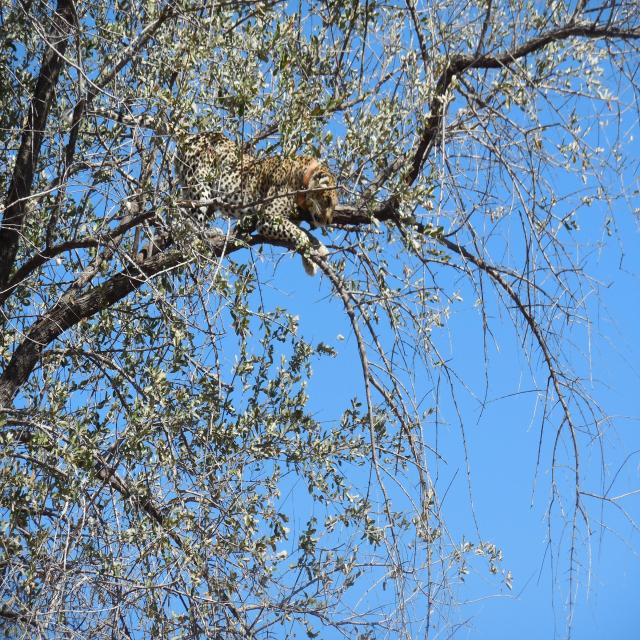Leopard: (81, 118, 348, 276)
